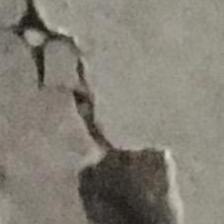Crack: (0, 1, 206, 224)
